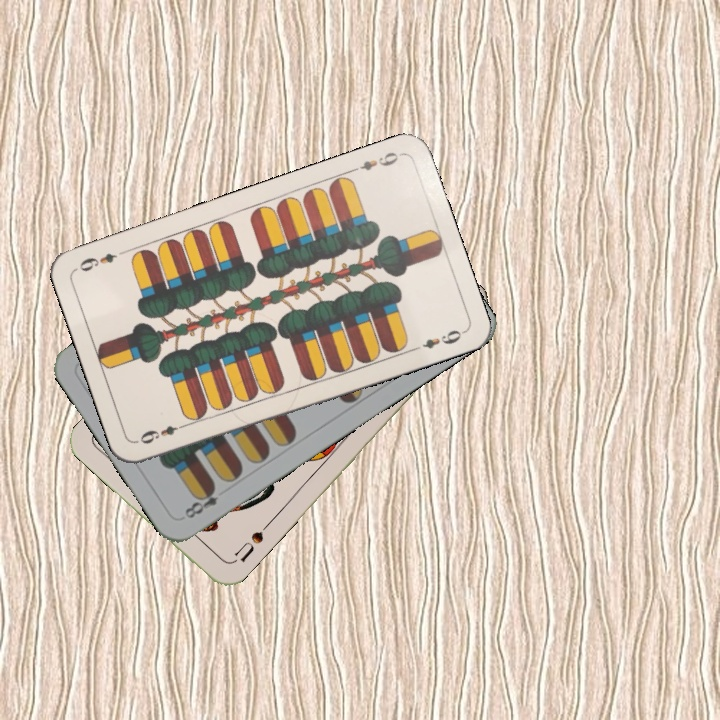E8: (180, 481, 222, 522)
E9: (134, 419, 191, 447), (347, 147, 404, 175)
SU: (227, 519, 272, 566)
